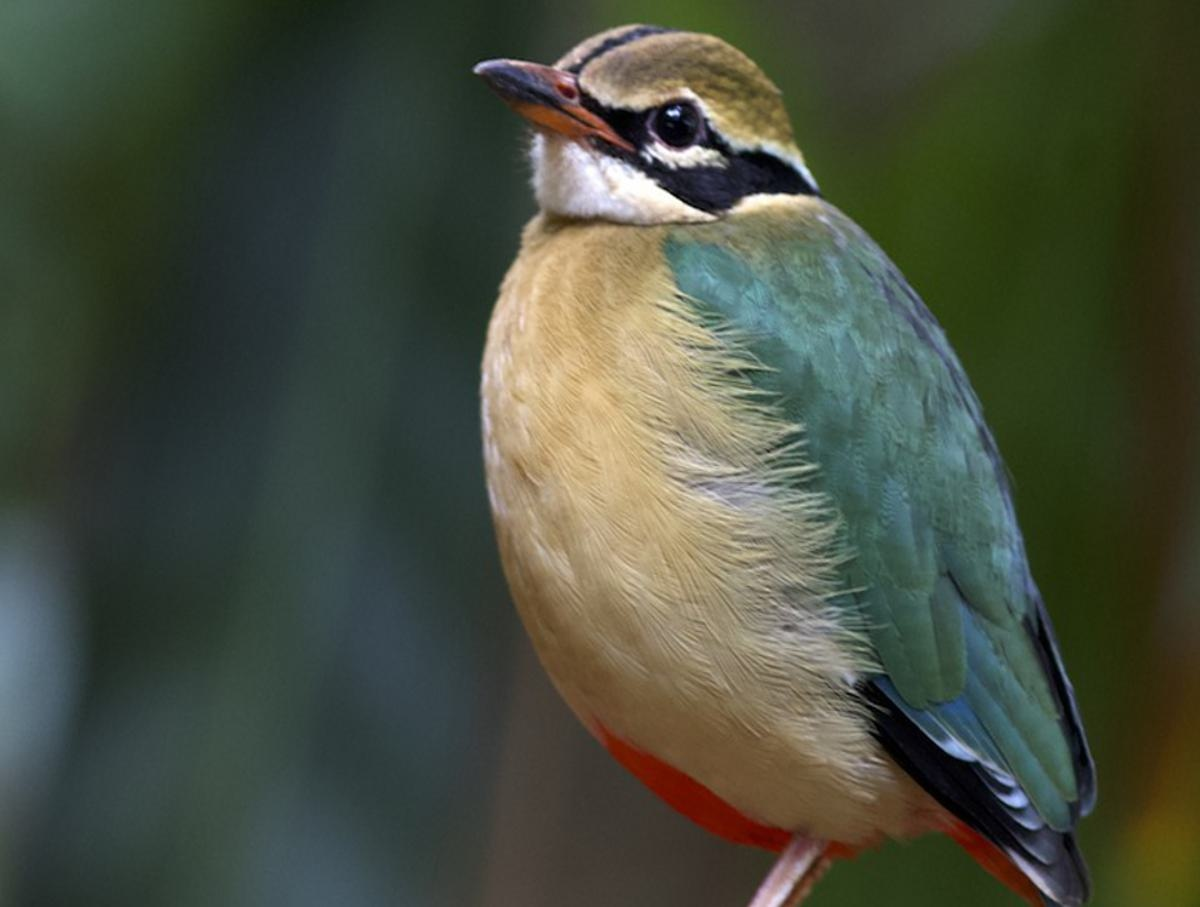pitta: (453, 30, 1090, 891)
